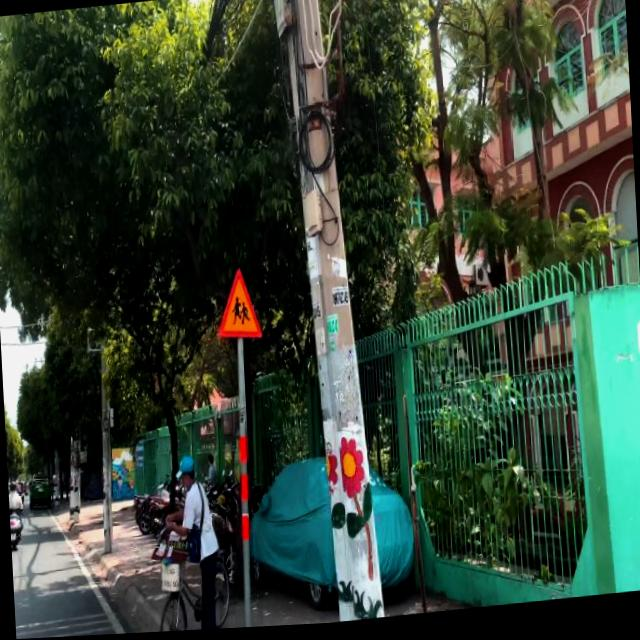Tre em: (214, 266, 263, 346)
